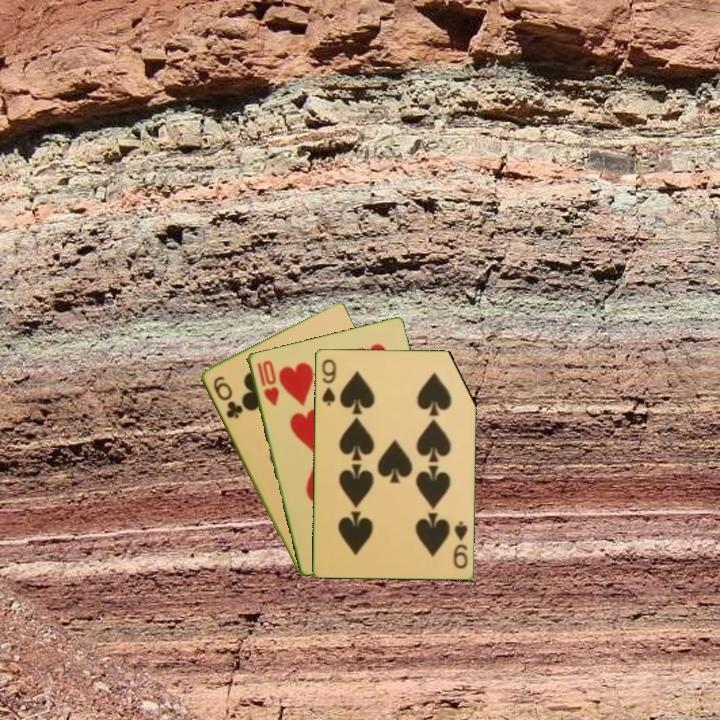10h: (253, 357, 282, 409)
6c: (209, 372, 245, 422)
9s: (318, 355, 339, 408), (450, 518, 471, 571)
